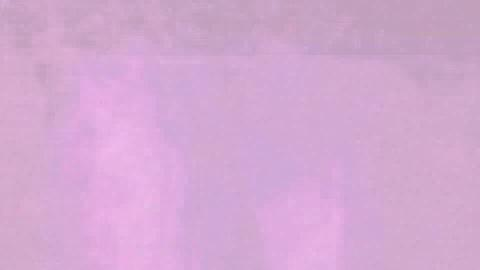tomato: (83, 116, 294, 269), (295, 116, 477, 270), (2, 119, 82, 268)
